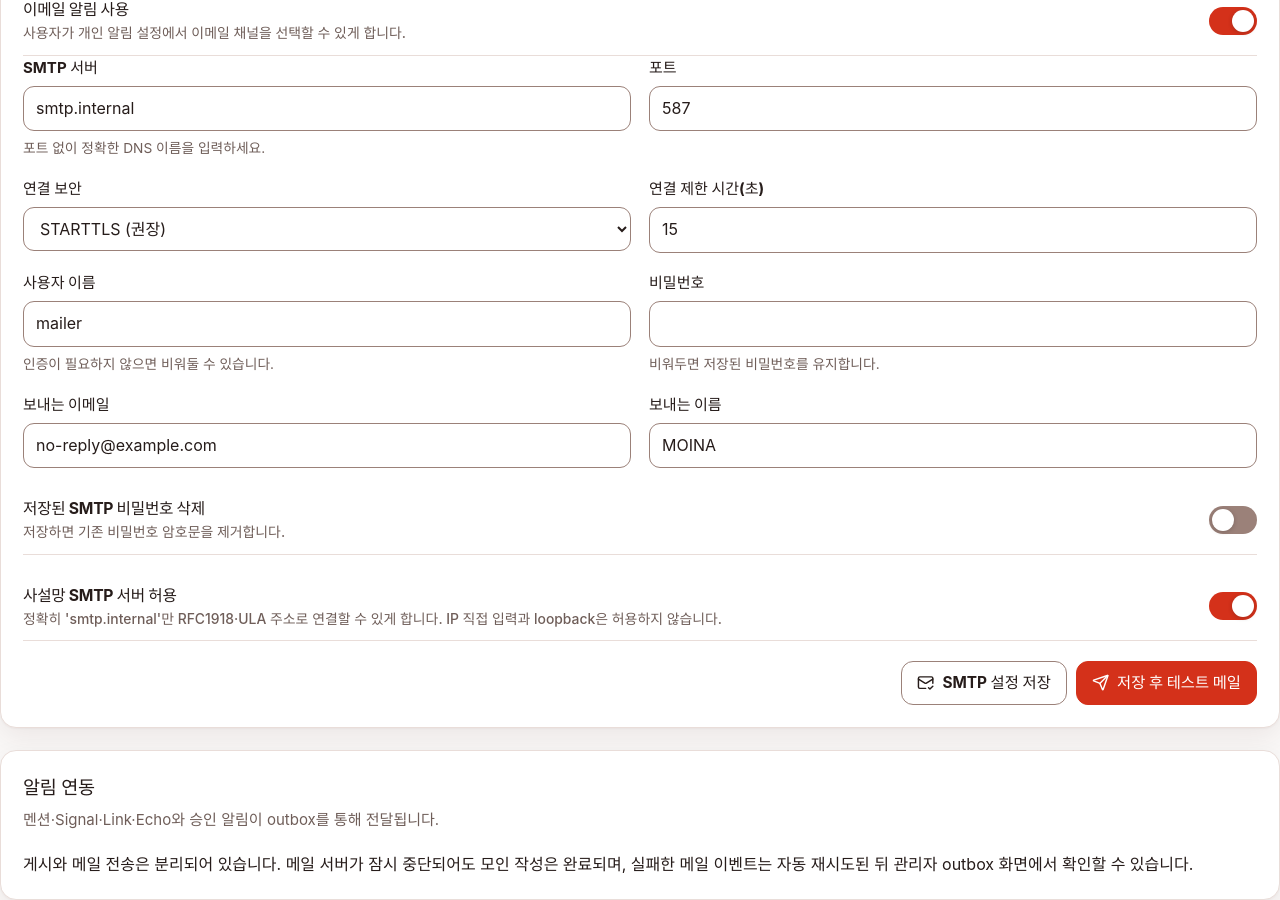
Test: 관리자 SMTP 설정 › 저장 완료 후 관리자 이메일로 테스트 메일을 보낸다
The width and height of the screenshot is (1280, 900).
(page scrolled)
Expected: the field showing "smtp.internal" is shown, [23,86,631,131]
Click the button "저장 후 테스트 메일". click: (1166, 683)
box: [1076,661,1257,705]
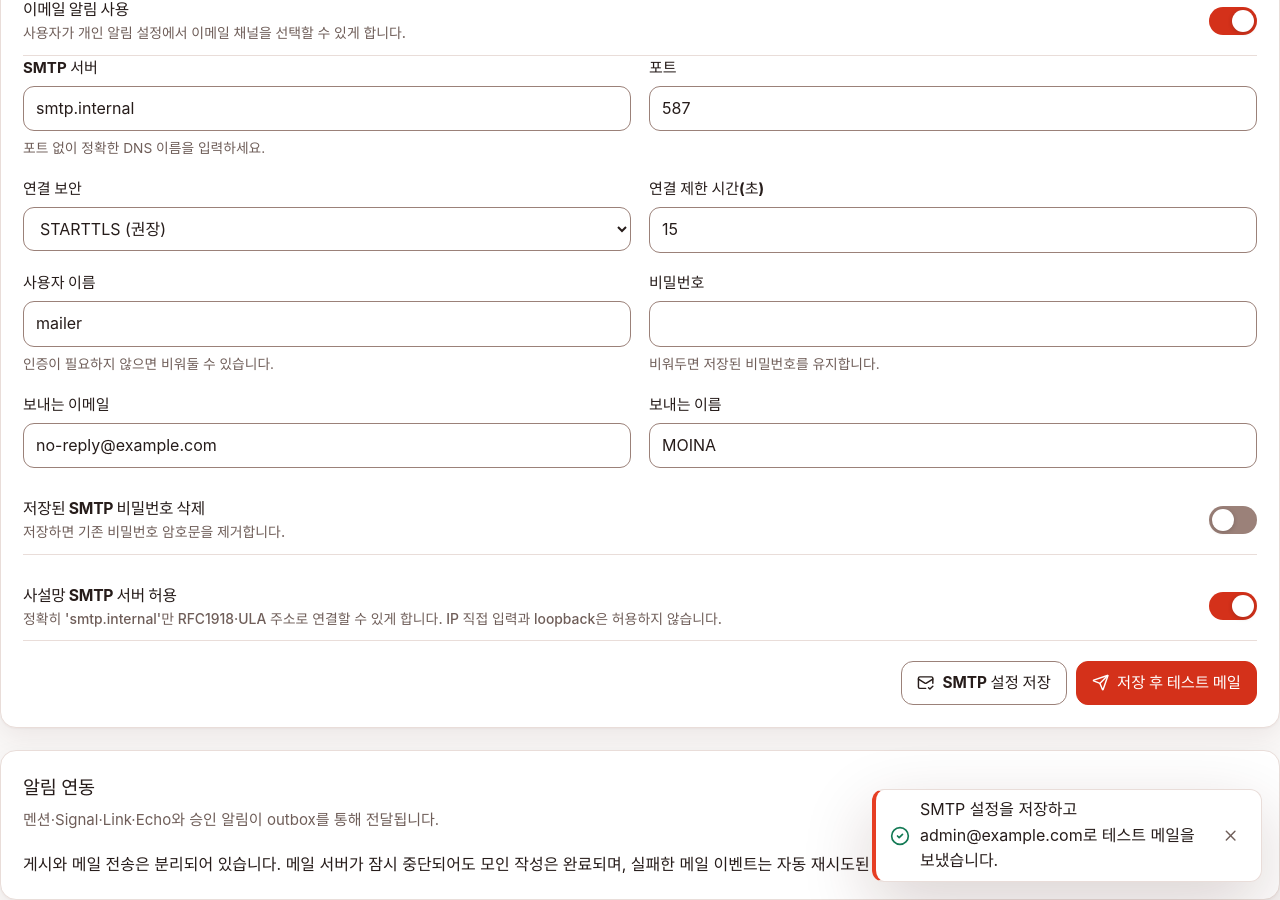
Now the text "SMTP 설정을 저장하고 admin@example.com로 테스트 메일을 보냈습니다." is shown, box [920,797,1199,874]
